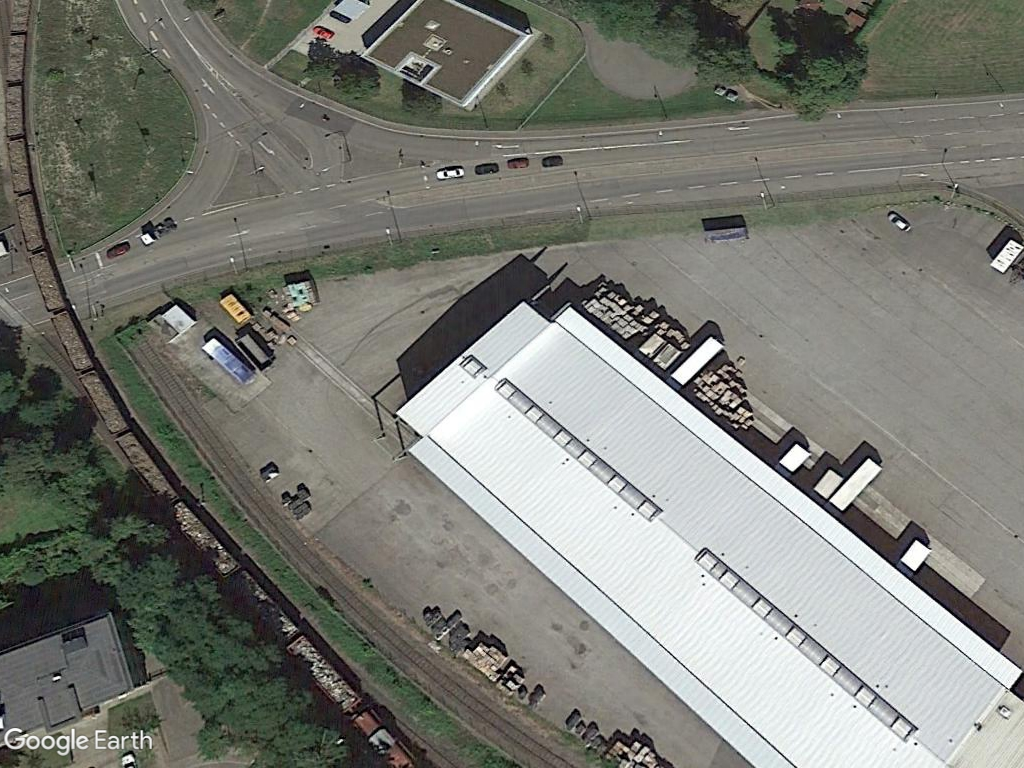car: (884, 206, 916, 238)
